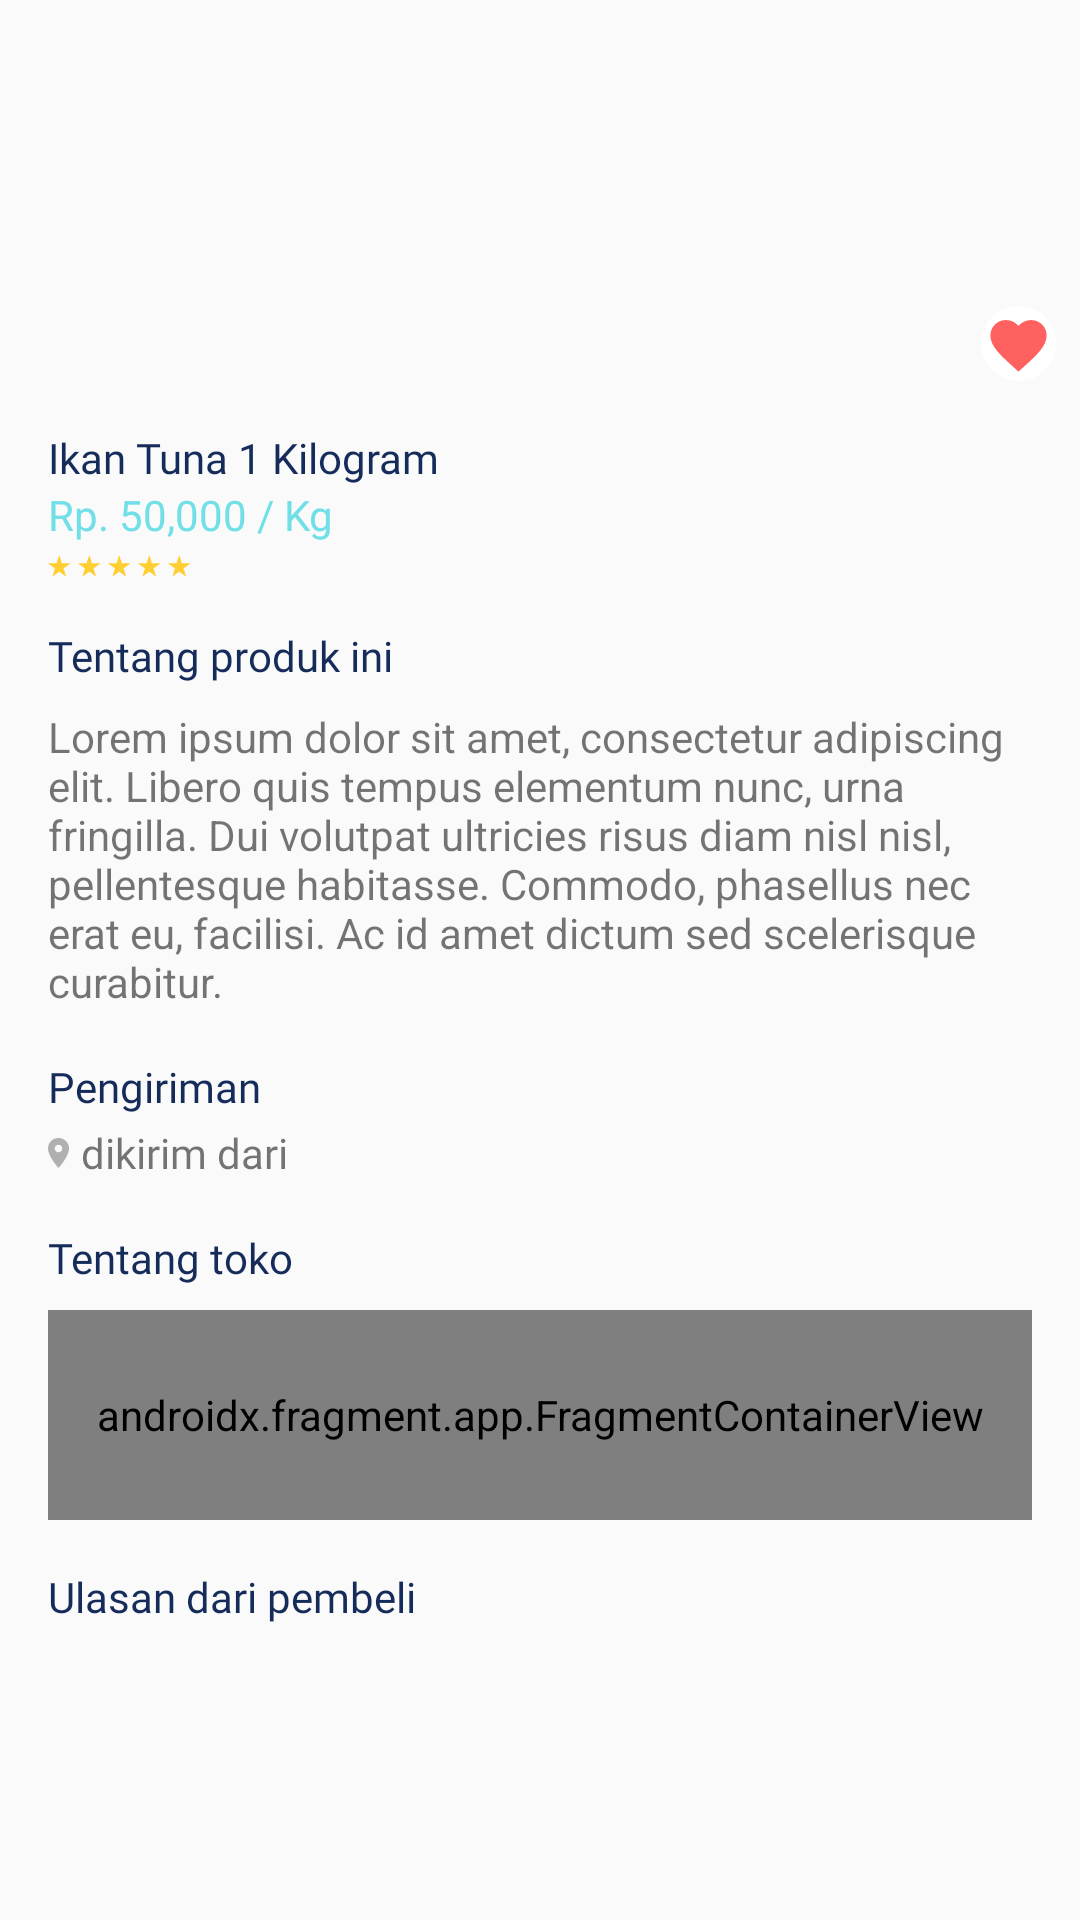

Point at icon controls on the screen. Image size 1080×1920, points as point (x, y).
love: point (1018, 346)
